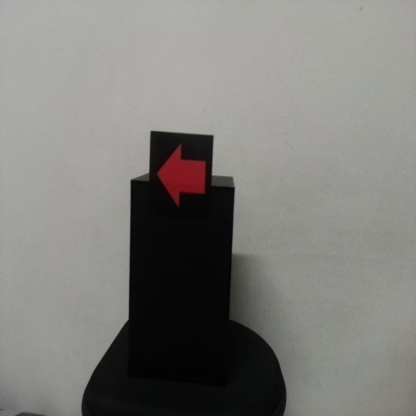id_4: (149, 133, 213, 224)
